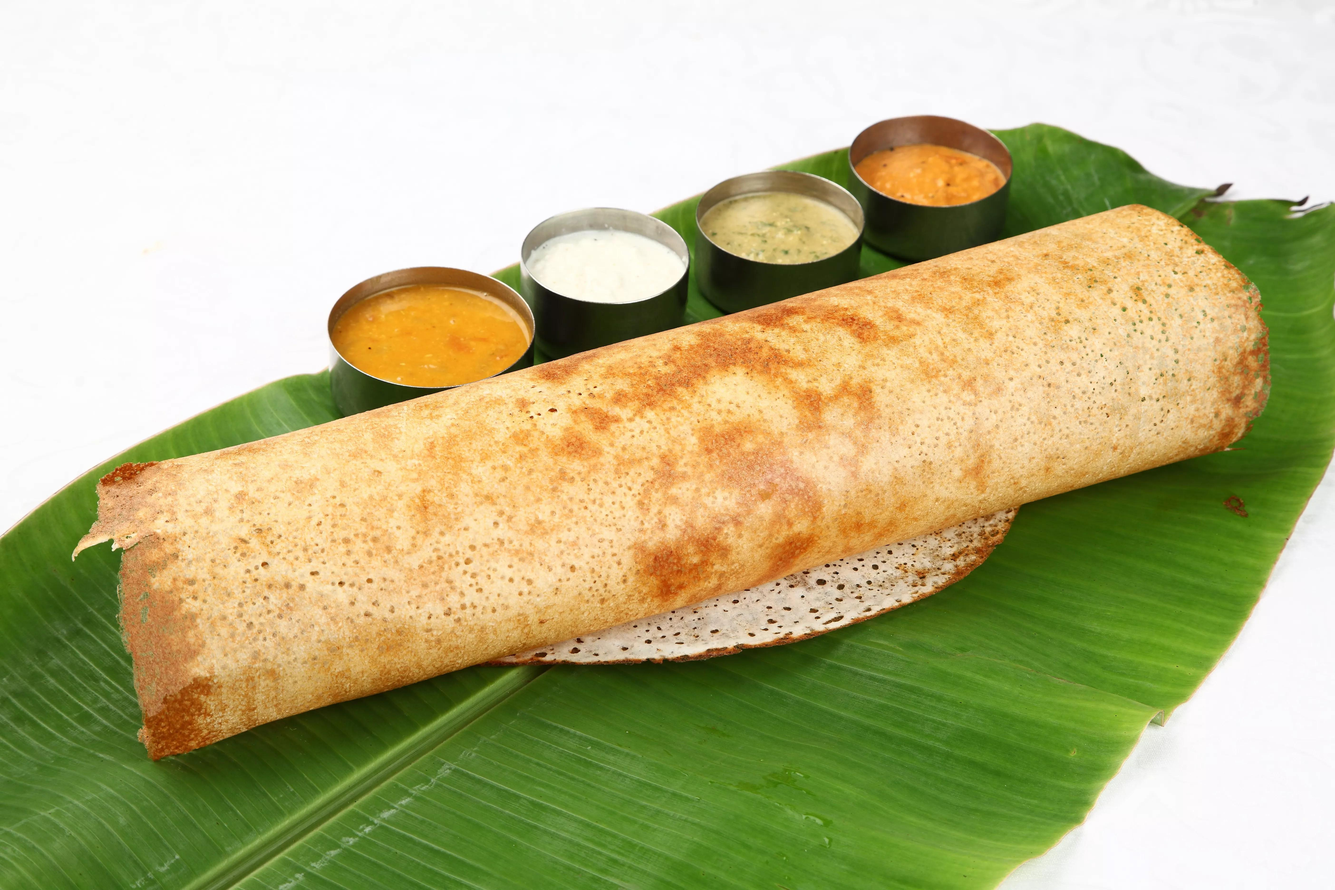Dosa: (77, 203, 1269, 758)
